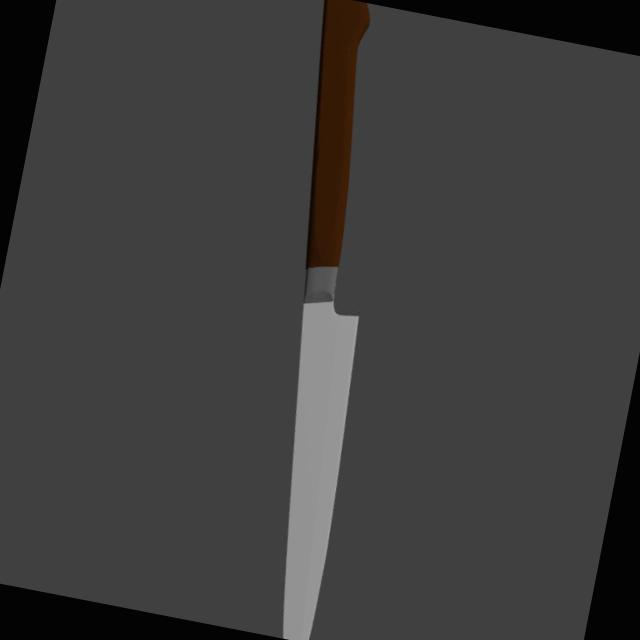knife: (272, 0, 389, 276)
